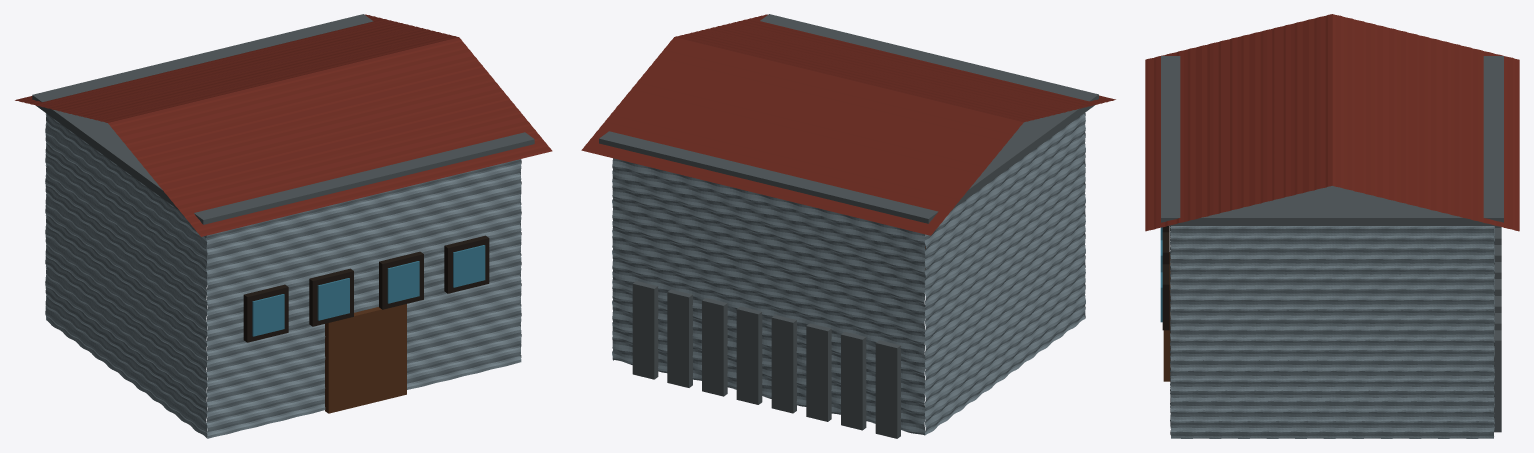
File: harbor_warehouse_01.obj
3 views of the same model, side by side, from view 1: azimuth 30°, elevation 25°; view 2: azimuth 150°, elevation 25°; view 3: azimuth 270°, elevation 25° (orthographic).
Visible parts, largest first — view 1: harbor_warehouse_01; view 2: harbor_warehouse_01; view 3: harbor_warehouse_01.
Boxes of the visible parts, x1,y1,x2,y2 form: harbor_warehouse_01: [15, 14, 552, 438]; harbor_warehouse_01: [581, 14, 1115, 438]; harbor_warehouse_01: [1145, 14, 1519, 438].
Size of the model in its own units: 8.06 by 5.85 by 7.42.
